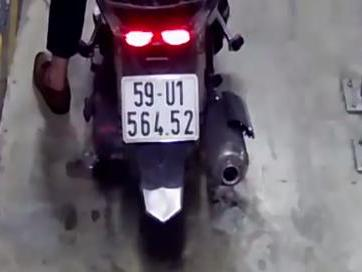num_plate: (120, 74, 200, 141)
